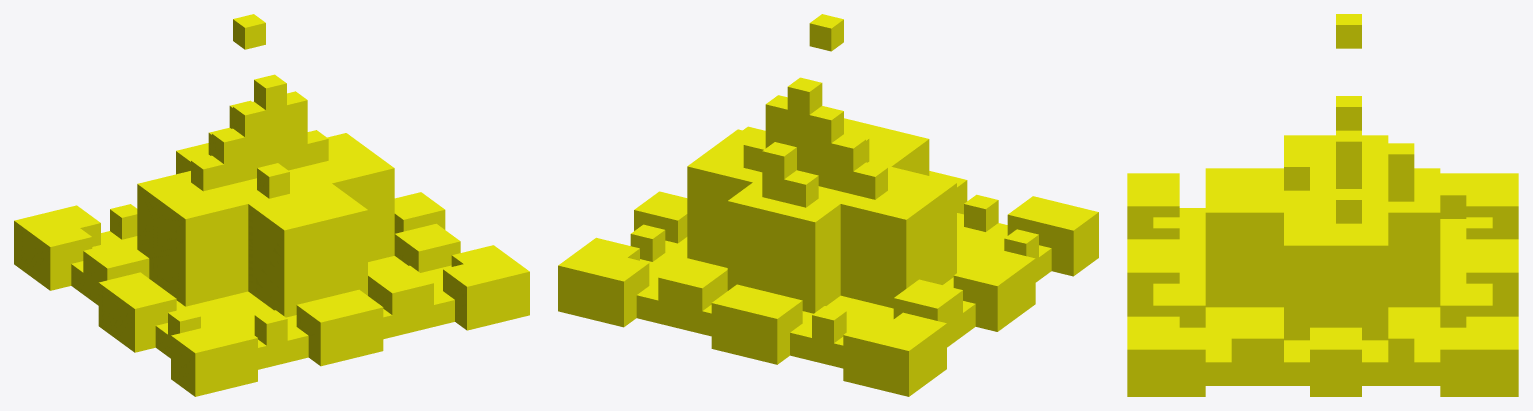
The model's file is voxel-rangers-campfire-frame2.glb.
3 views of the same model, side by side, from view 1: azimuth 30°, elevation 25°; view 2: azimuth 150°, elevation 25°; view 3: azimuth 270°, elevation 25° (orthographic). The views are drawn at different scales.
Visible parts, largest first — view 1: VS_Rangers_Environment_Campfire_002; view 2: VS_Rangers_Environment_Campfire_002; view 3: VS_Rangers_Environment_Campfire_002.
Boxes of the visible parts, x1,y1,x2,y2 form: VS_Rangers_Environment_Campfire_002: [14, 14, 529, 396]; VS_Rangers_Environment_Campfire_002: [558, 14, 1098, 396]; VS_Rangers_Environment_Campfire_002: [1127, 14, 1518, 396].
Size of the model in its own units: 1.6 by 1.2 by 1.5.
